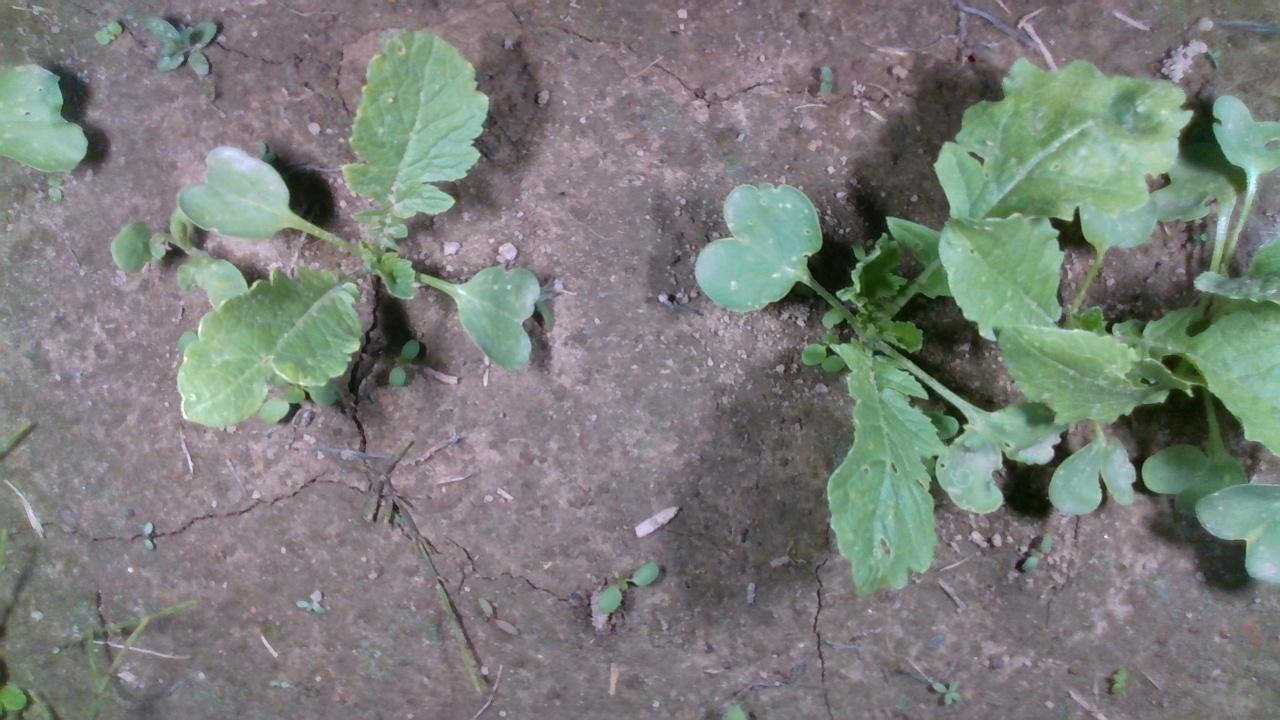weed: (596, 557, 660, 616), (475, 594, 519, 636), (386, 337, 419, 389), (1020, 531, 1053, 573), (928, 677, 961, 705), (1103, 663, 1129, 697), (93, 18, 122, 45), (45, 174, 63, 203), (293, 599, 326, 614), (818, 64, 832, 98)
